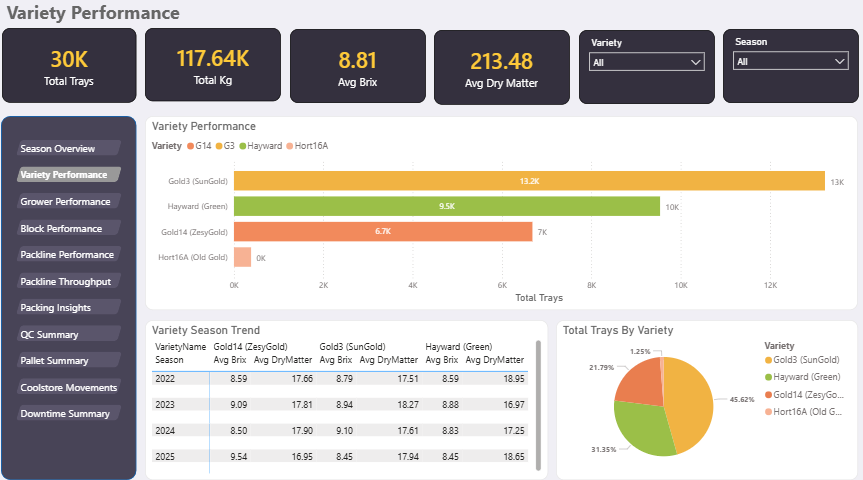

The dashboard page shown, as its layout file describes it:
{"tool":"powerbi","page":{"name":"Variety Performance","canvas":[1280,720],"ordinal":1},"visuals":[{"type":"shape","box":[6.4,180.3,199.5,536.3],"z":0},{"type":"slicer","fields":{"Values":["view_VarietyPerformance.VarietyName"]},"box":[856.7,52.7,199.5,108.5],"z":1000},{"type":"pivotTable","title":"Variety Season Trend","fields":{"Rows":["view_VarietySeasonTrend.Season"],"Columns":["view_VarietySeasonTrend.VarietyName"],"Values":["Avg(view_VarietySeasonTrend.AvgBrix)","Avg(view_VarietySeasonTrend.AvgDryMatter)"]},"box":[218.7,480.4,593.7,236.2],"z":2000},{"type":"barChart","title":"Variety Performance","fields":{"Category":["view_VarietyPerformance.VarietyName"],"Series":["view_VarietyPerformance.VarietyCode"],"Y":["Sum(view_VarietyPerformance.TotalTrays)"]},"box":[218.7,180.3,1050.2,285.7],"z":3000},{"type":"pieChart","title":"Total Trays By Variety","fields":{"Category":["view_VarietySeasonTrend.VarietyName"],"Y":["Sum(view_VarietySeasonTrend.TotalTrays)"]},"box":[823.5,480.4,445.3,236.2],"z":4000},{"type":"slicer","fields":{"Values":["view_VarietySeasonTrend.Season"]},"box":[1069.3,51.1,199.5,108.5],"z":5000},{"type":"pageNavigator","box":[27.4,214.6,157,420.5],"z":6000},{"type":"cardVisual","fields":{"Data":["Sum(view_VarietyPerformance.TotalTrays)"]},"box":[8,49.5,197.9,110.1],"z":7000},{"type":"cardVisual","fields":{"Data":["Sum(view_VarietyPerformance.TotalKg)"]},"box":[218,50.1,200.3,107.5],"z":8000},{"type":"cardVisual","fields":{"Data":["Sum(view_VarietySeasonTrend.AvgDryMatter)"]},"box":[644,52.7,199.5,110.1],"z":9000},{"type":"cardVisual","fields":{"Data":["Avg(view_VarietySeasonTrend.AvgBrix)"]},"box":[431.3,51.1,199.5,109],"z":10000},{"type":"textbox","box":[8.8,2.9,332.9,47.1],"z":10001}]}

Visuals, with their boxes on the page's 1280x720 design canvas (x1, y1, x2, y2). These are canvas units, not pixel positions in the 863x480 screenshot, which may show the page scaled, cropped or inside an application window:
shape: [x1=6, y1=180, x2=206, y2=717]
slicer - view_VarietyPerformance.VarietyName: [x1=857, y1=53, x2=1056, y2=161]
"Variety Season Trend" pivotTable: [x1=219, y1=480, x2=812, y2=717]
"Variety Performance" barChart: [x1=219, y1=180, x2=1269, y2=466]
"Total Trays By Variety" pieChart: [x1=824, y1=480, x2=1269, y2=717]
slicer - view_VarietySeasonTrend.Season: [x1=1069, y1=51, x2=1269, y2=160]
pageNavigator: [x1=27, y1=215, x2=184, y2=635]
cardVisual - Sum(view_VarietyPerformance.TotalTrays): [x1=8, y1=50, x2=206, y2=160]
cardVisual - Sum(view_VarietyPerformance.TotalKg): [x1=218, y1=50, x2=418, y2=158]
cardVisual - Sum(view_VarietySeasonTrend.AvgDryMatter): [x1=644, y1=53, x2=844, y2=163]
cardVisual - Avg(view_VarietySeasonTrend.AvgBrix): [x1=431, y1=51, x2=631, y2=160]
textbox: [x1=9, y1=3, x2=342, y2=50]
